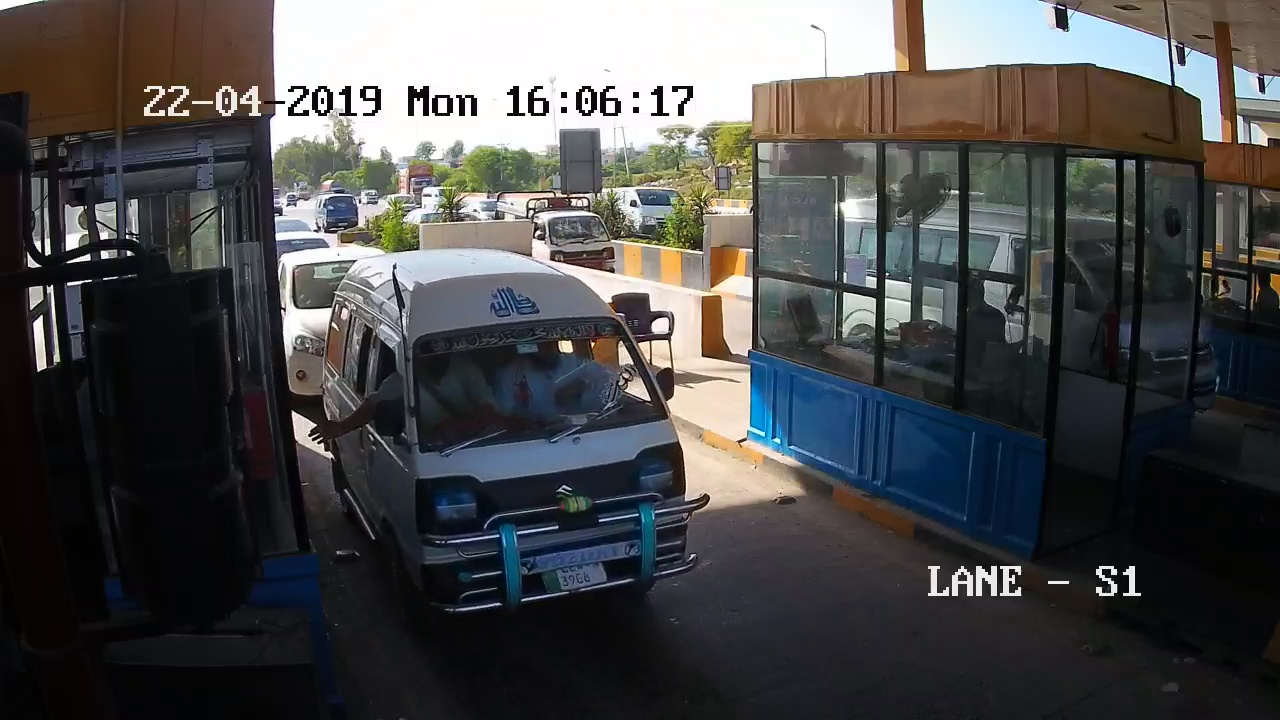Number Plate (Car): (538, 565, 607, 590)
